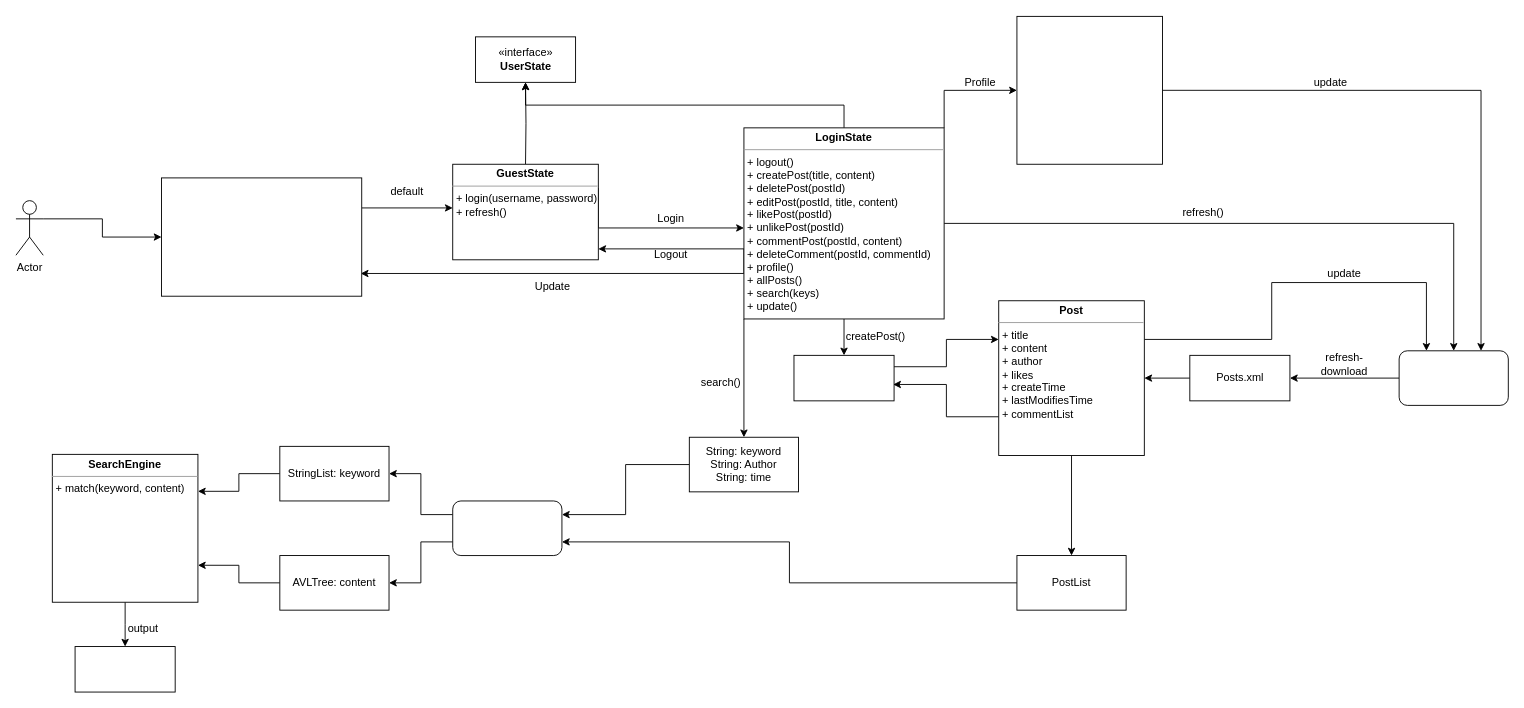
This 1524x708 diagram has some shape labels left out. The shapes that lost their labels are listed below. From the top down, each one's centre as x and y in pixels, then its label:
At [1089,89]: "User + username + password + avatar (?) + allPosts + ...".
At [261,236]: "UserSession + UserState + username + isLoggedIn".
At [843,377]: "String: content String: title".
At [1453,377]: "Server".
At [507,528]: "Tokenizer".
At [124,669]: "PostList return".
